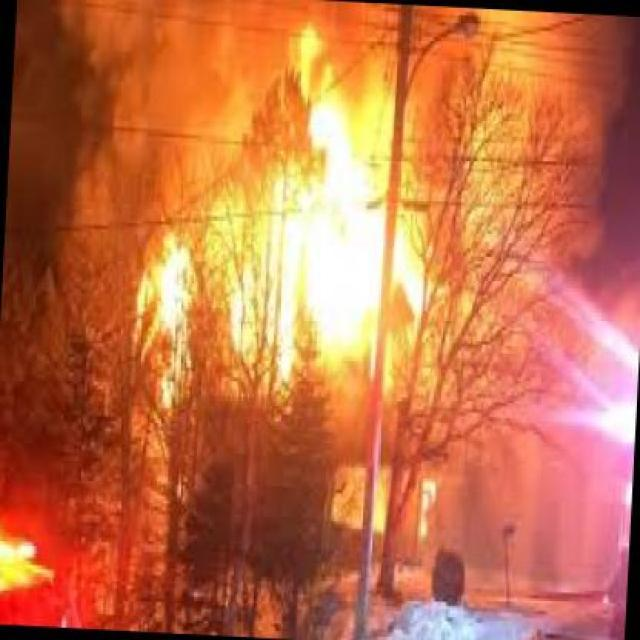Fire: (218, 101, 416, 369), (129, 234, 198, 403)
Smoke: (455, 17, 640, 296), (91, 3, 215, 216)
